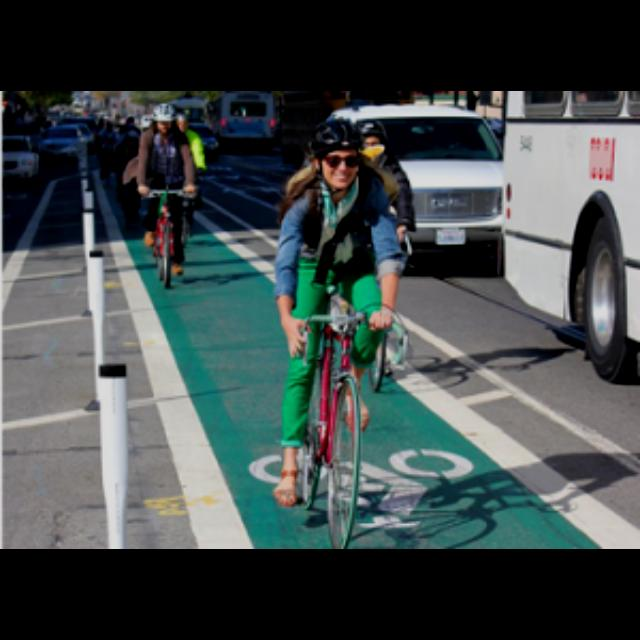With Helmet: (301, 117, 371, 185)
